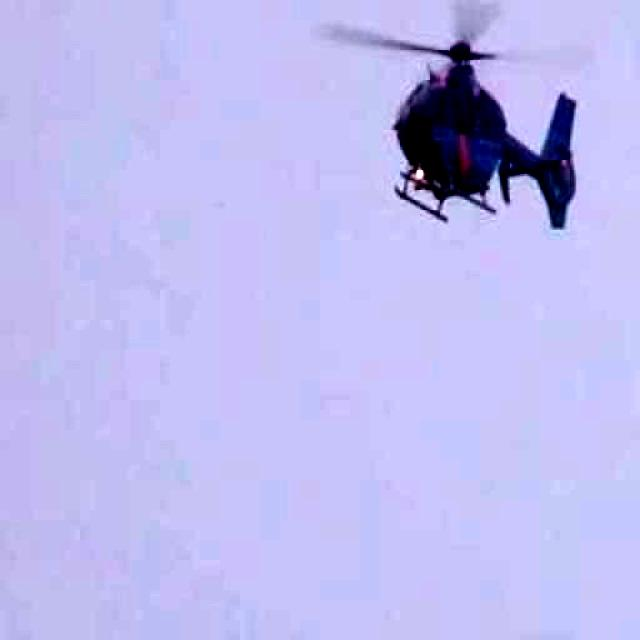drone: (306, 0, 632, 260)
